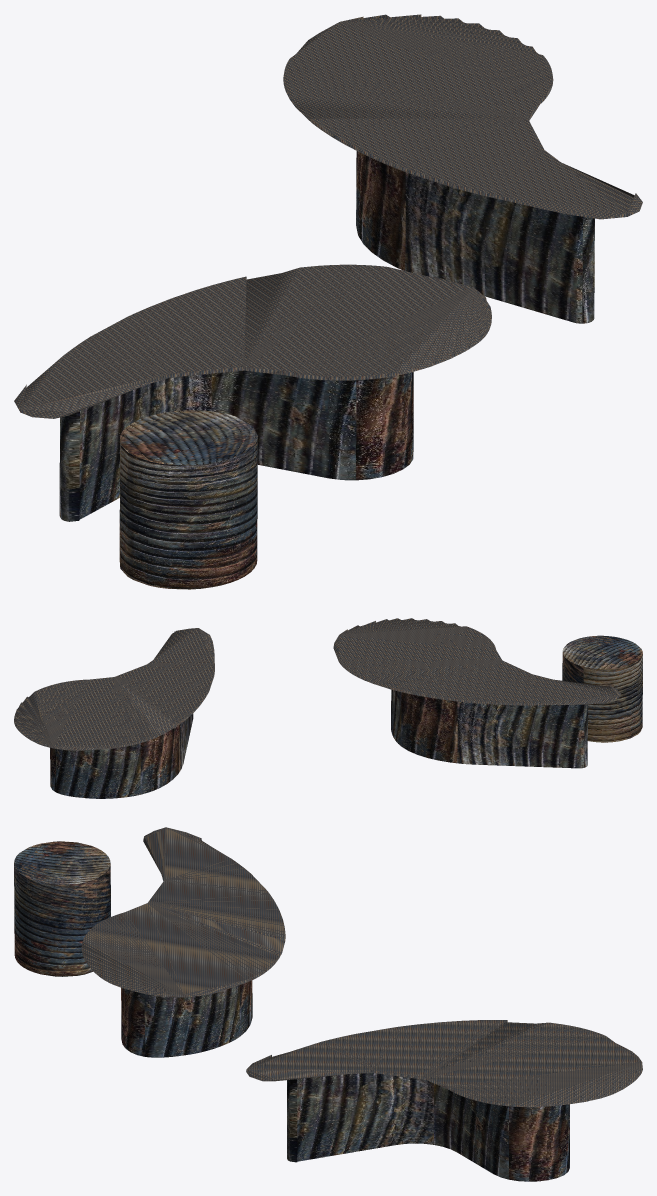
Rendered from mesas.obj.
3 views of the same model, one above another, from view 1: azimuth 30°, elevation 25°; view 2: azimuth 150°, elevation 25°; view 3: azimuth 270°, elevation 25° (orthographic). The views are drawn at different scales.
Parts seen in each view (by area): view 1: Table_135:Table_135_00, Table_136:Table_135_00 group, Table_135:Table_135_01; view 2: Table_135:Table_135_00, Table_136:Table_135_00 group, Table_135:Table_135_01; view 3: Table_136:Table_135_00 group, Table_135:Table_135_00, Table_135:Table_135_01.
Part boxes in pixels (<box>): Table_135:Table_135_00: <box>14,264,491,521</box>; Table_136:Table_135_00 group: <box>283,14,642,323</box>; Table_135:Table_135_01: <box>119,410,257,589</box>; Table_135:Table_135_00: <box>333,618,620,768</box>; Table_136:Table_135_00 group: <box>14,628,214,798</box>; Table_135:Table_135_01: <box>562,635,642,742</box>; Table_136:Table_135_00 group: <box>246,1020,642,1181</box>; Table_135:Table_135_00: <box>81,827,285,1057</box>; Table_135:Table_135_01: <box>14,841,110,976</box>.
Size of the model in its own units: 7.45 by 1.25 by 7.23.
Materials: 2 (2 with a texture image).
